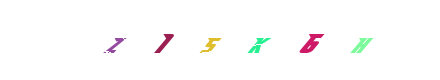1: (170, 0, 250, 80)
6: (218, 0, 298, 80)
H: (306, 0, 386, 80)
K: (218, 0, 298, 80)
S: (179, 0, 259, 80)
Z: (118, 0, 198, 80)
